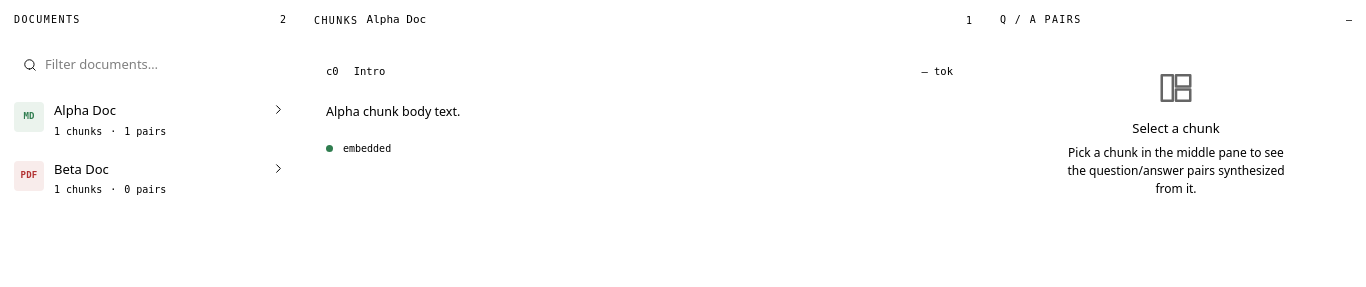
changing the selected doc resets the chunk selection
This screenshot has width=1366, height=287.
Check: the text "Select a chunk" is shown, box top-left (1132, 119), bottom-right (1220, 137)
// Select doc_a's chunk → pane 3 shows its pairs.
Click the text "Alpha chunk body text." at (393, 111), box top-left (326, 102), bottom-right (460, 120)
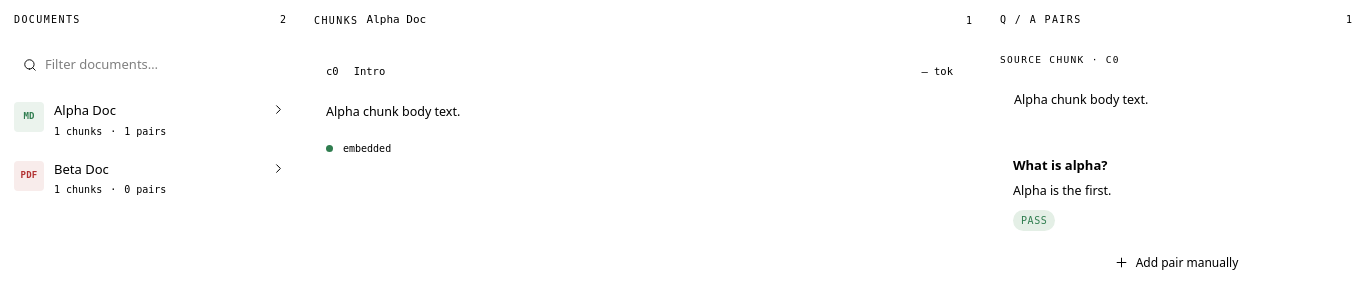
Check: the text "What is alpha?" is shown, box top-left (1013, 156), bottom-right (1107, 174)
Check: the text "Select a chunk" is gone
// Switch to doc_b → chunk selection resets, pane 3 back to empty state.
Click the text "Beta Doc" at (81, 168), box top-left (54, 160), bottom-right (109, 178)
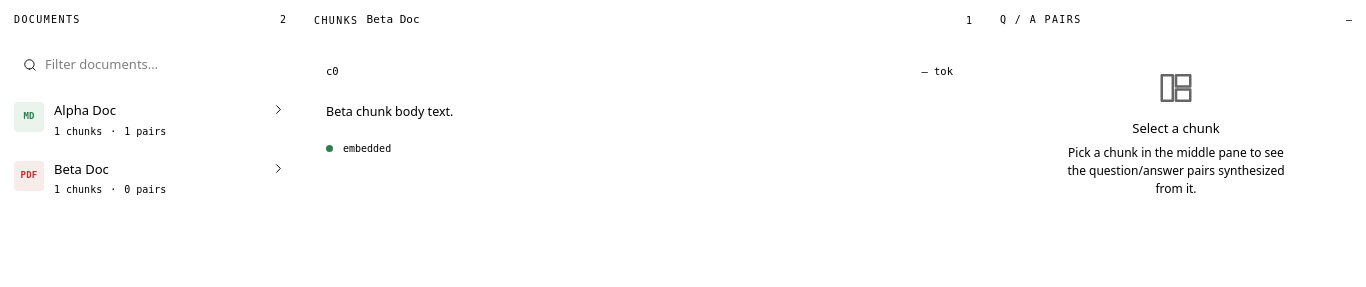
Check: the text "Select a chunk" is shown, box top-left (1132, 119), bottom-right (1220, 137)
Check: the text "What is alpha?" is gone
